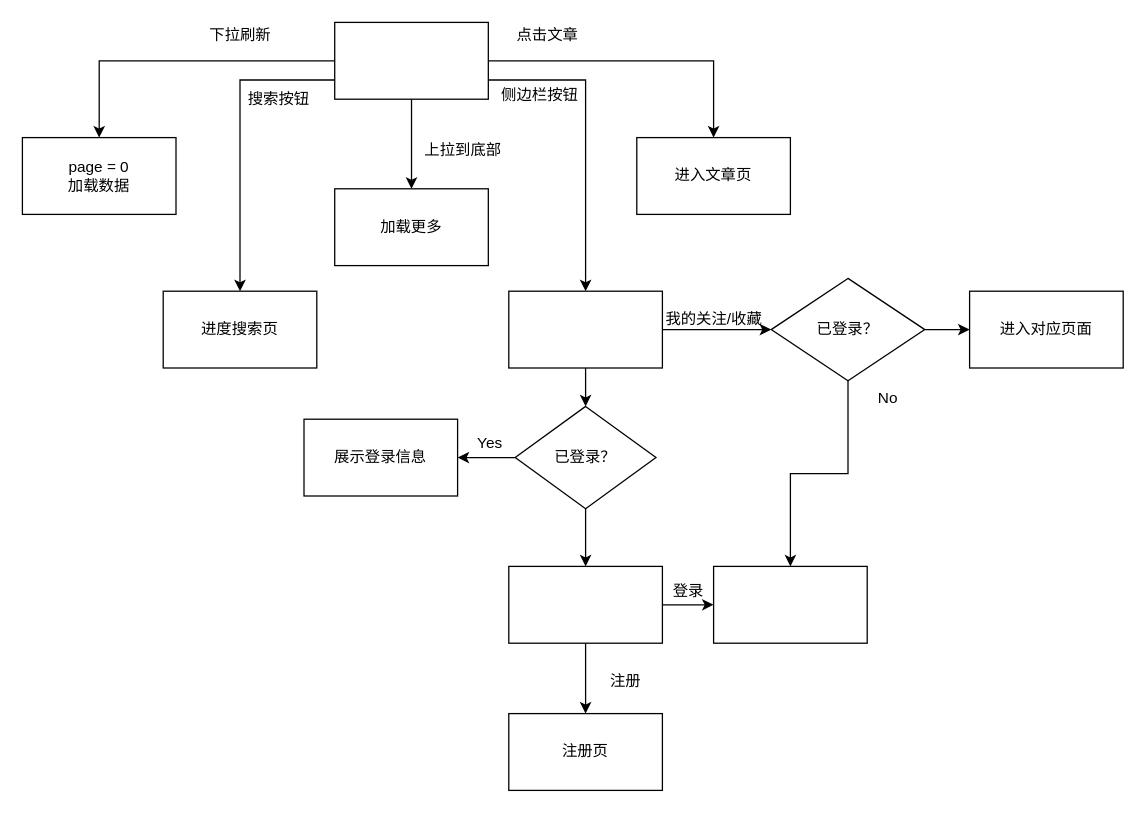
Image size: 1146x813. Some labels were removed from this diagram. The centre of each missing label's shape, as x and y in pixels:
"展开侧边栏" belongs at (585,329).
"展示登录/注册按钮" belongs at (585,604).
"登录页" belongs at (789,604).
"首页" belongs at (410,60).
